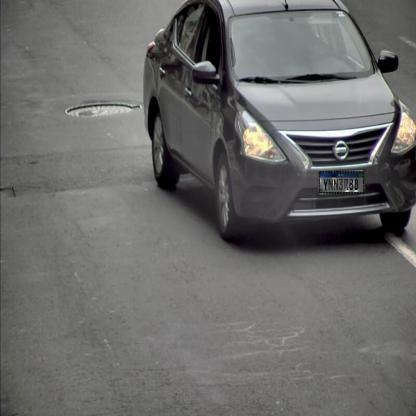PlacaM: (319, 172, 364, 194)
